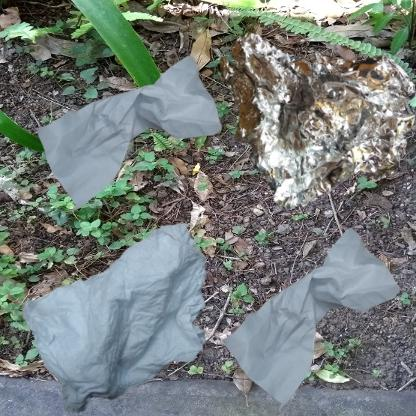aluminio: (213, 10, 416, 219)
papel: (10, 10, 264, 278), (10, 213, 278, 416), (213, 213, 411, 416)
